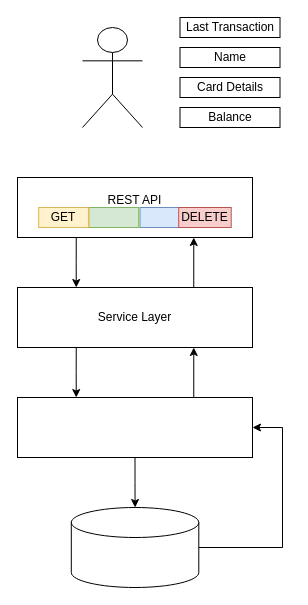
Some shapes in this 308 by 605 pixel diagram are drawn without their labels. The centre of each missing label's shape, as x and y in pixels:
Customer: point 112,77
Data Access Layer: point 134,427
POST: point 113,217
PUT: point 159,217
